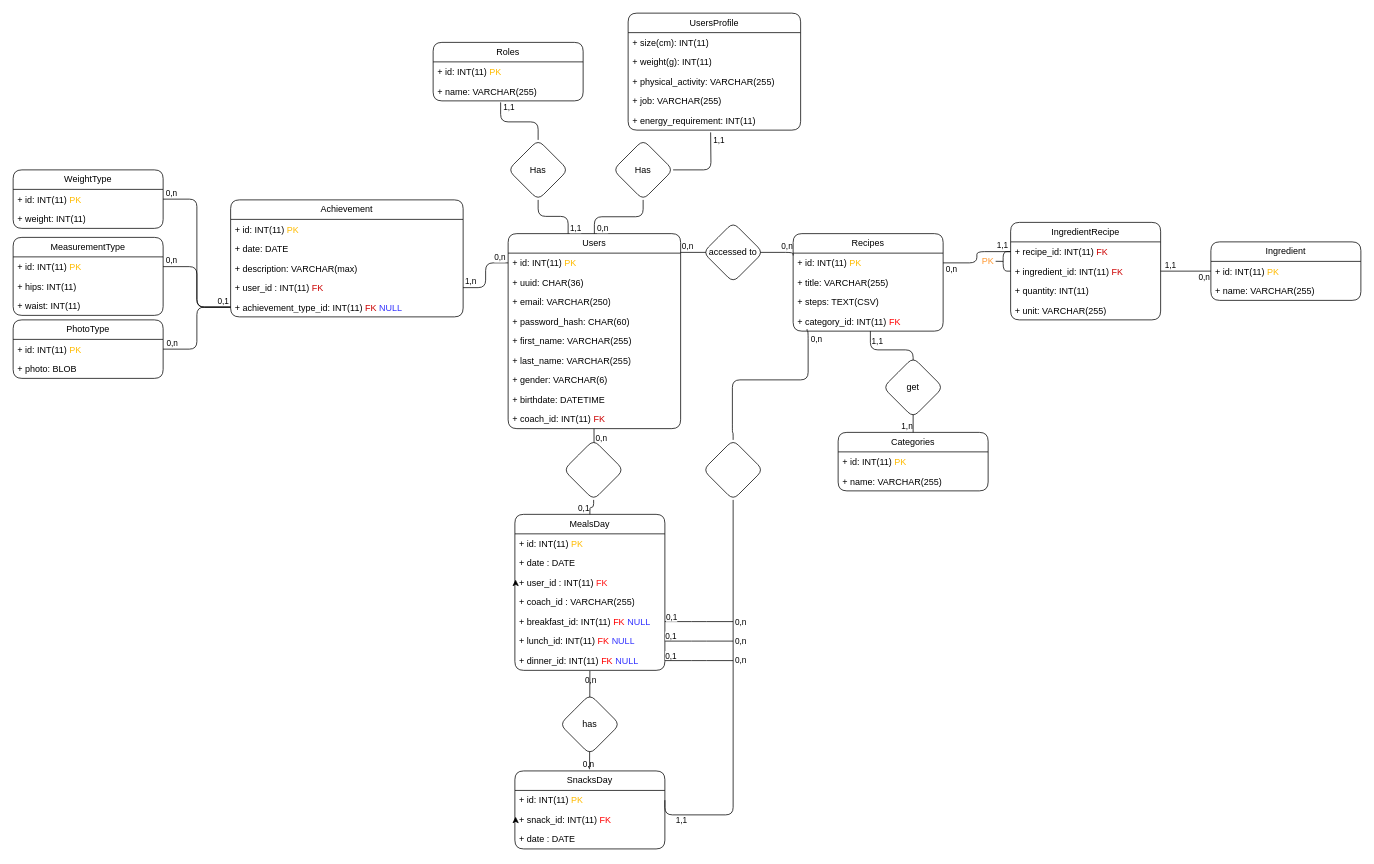
The diagram is 1374 pixels wide and 864 high, and some of its shapes have lost their labels. The centre of each missing label's shape, as x and y in pixels:
"Disposed" belongs at (x=593, y=469).
"use" belongs at (x=732, y=469).
